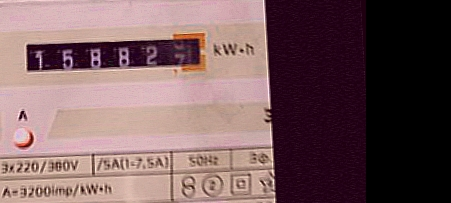1: (31, 48, 47, 71)
2: (142, 44, 160, 69)
5: (59, 46, 75, 72)
7: (173, 49, 186, 67)
8: (115, 45, 131, 70), (87, 47, 102, 71)
screen: (16, 25, 215, 90)
